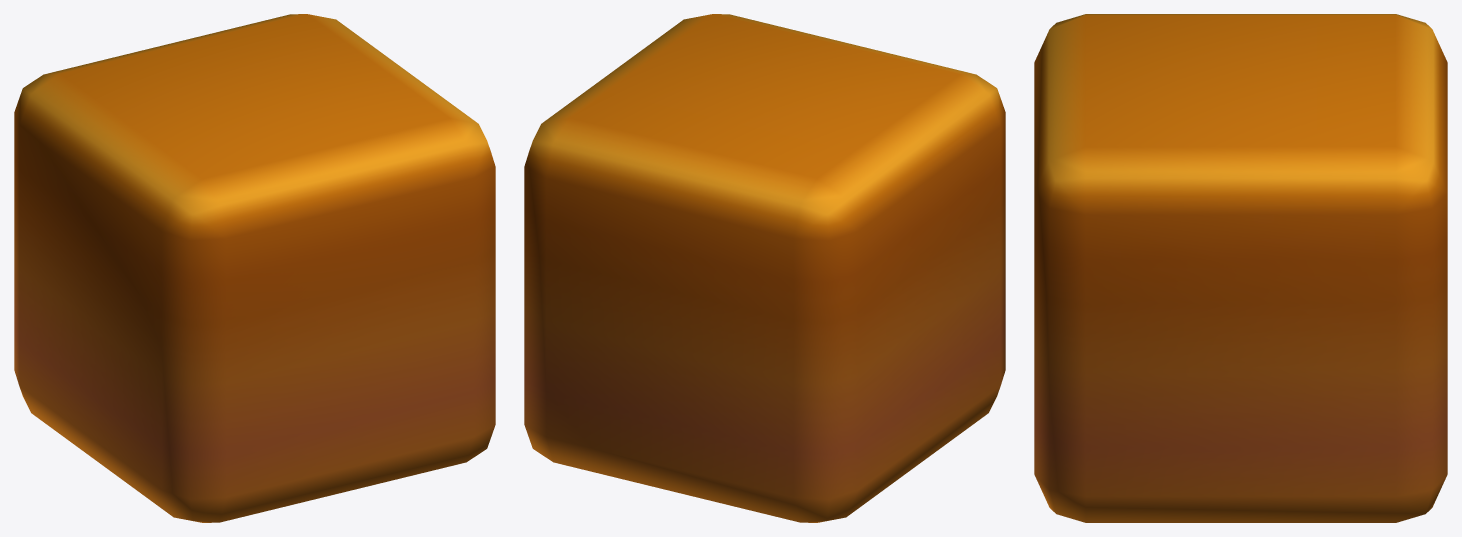
File: block_wheat_2_0.fbx
3 views of the same model, side by side, from view 1: azimuth 30°, elevation 25°; view 2: azimuth 150°, elevation 25°; view 3: azimuth 270°, elevation 25° (orthographic). The views are drawn at different scales.
Parts seen in each view (by area): view 1: block_wheat_2_0; view 2: block_wheat_2_0; view 3: block_wheat_2_0.
Part boxes in pixels (x1,y1,x2,y2): block_wheat_2_0: (14,14,495,522); block_wheat_2_0: (524,14,1005,522); block_wheat_2_0: (1034,14,1447,522).
Size of the model in its own units: 200 by 200 by 200.
